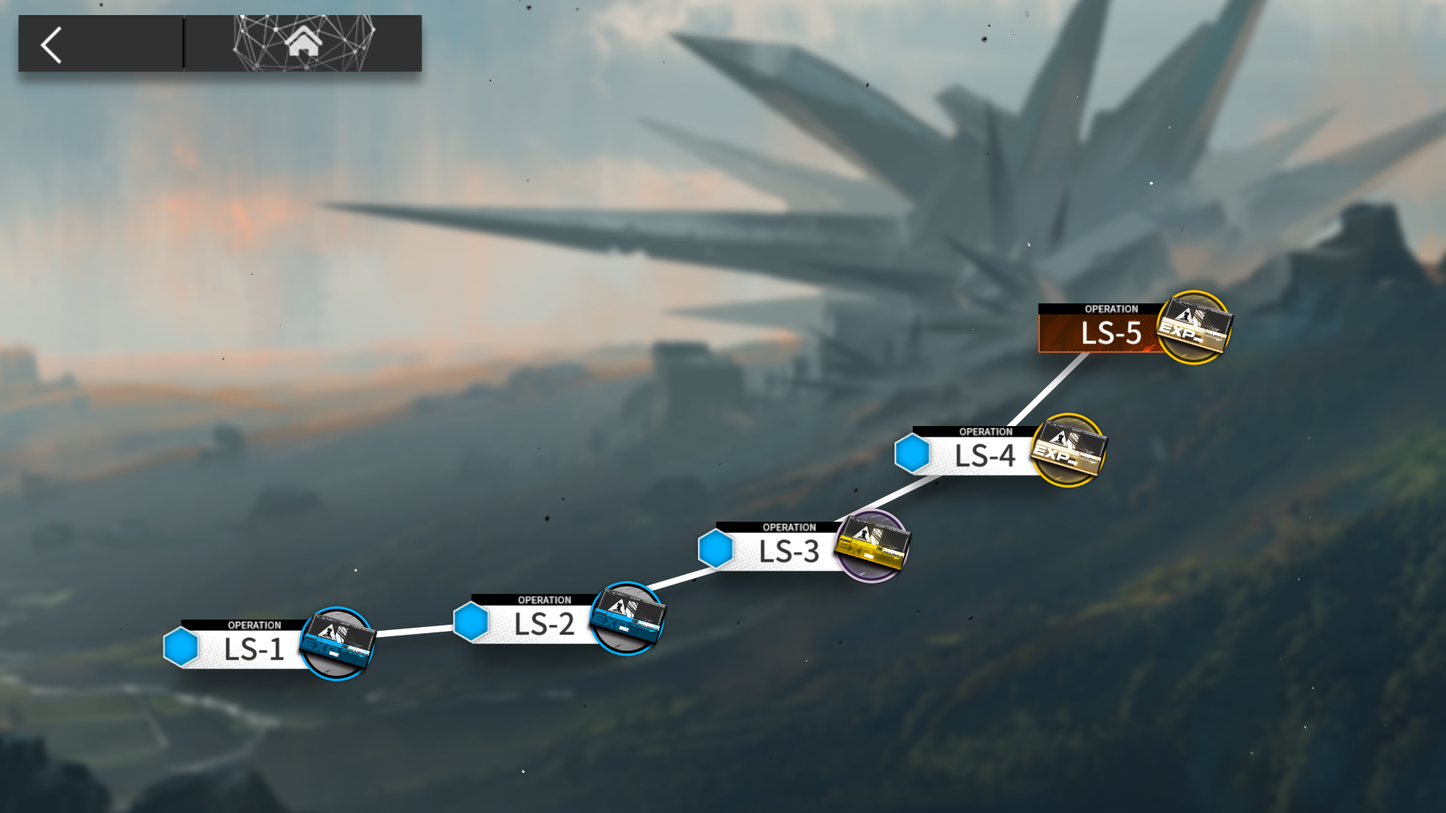LS-5_Button: (1025, 296, 1248, 363)
Return_Button: (24, 15, 120, 67)
